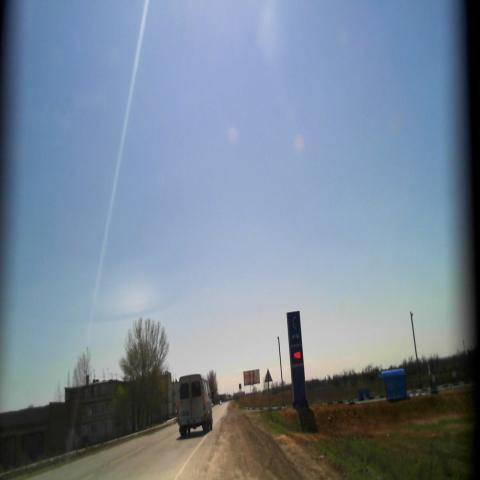2_3_2: (264, 368, 273, 384)
